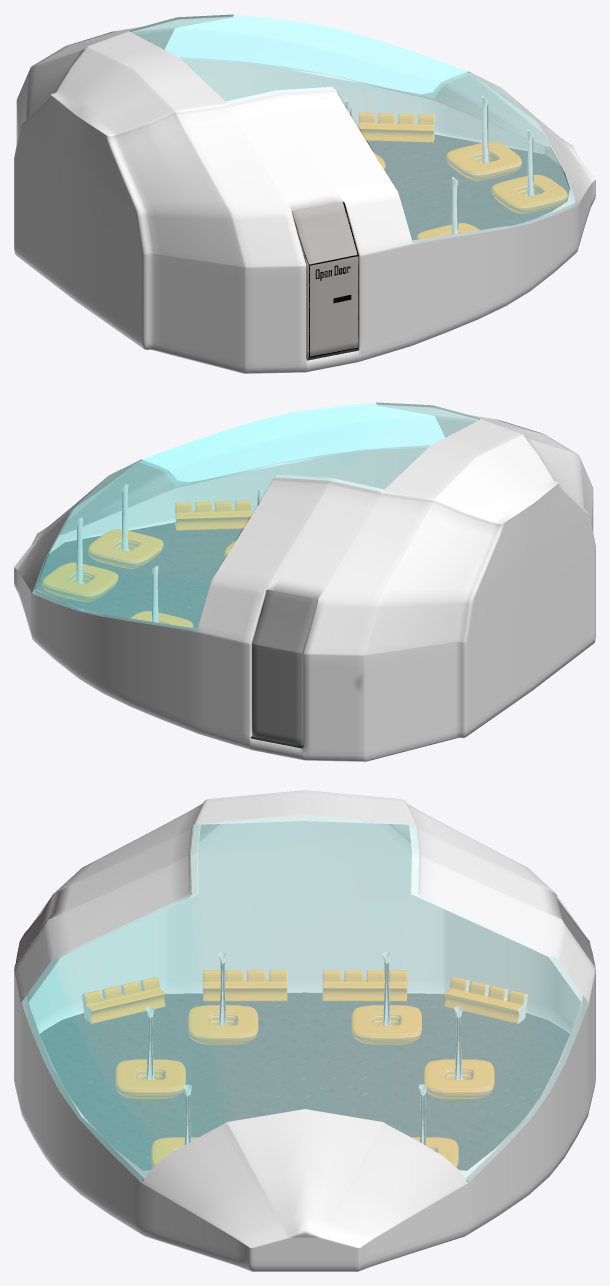
File: Leveler interor v2.FBX
3 renders of one model, top to bottom at view 1: azimuth 30°, elevation 25°; view 2: azimuth 150°, elevation 25°; view 3: azimuth 270°, elevation 25°, orthographic. The views are drawn at different scales.
Parts seen in each view (by area): view 1: Interiror, Cristal, Puerta, Asiento circular003, Asiento 003, Asiento circular001; view 2: Interiror, Cristal, puerta 2, Asiento circular003, Asiento 003, Asiento circular001; view 3: Interiror, Cristal, Asiento 004, Asiento circular002, Asiento circular, Asiento 005, Asiento circular001, Puerta.
Part boxes in pixels (x1,y1,x2,y2): Interiror: [14, 14, 595, 373]; Cristal: [128, 14, 577, 243]; Puerta: [291, 201, 359, 358]; Asiento circular003: [446, 141, 567, 213]; Asiento 003: [358, 113, 434, 142]; Asiento circular001: [373, 152, 479, 239]; Interiror: [14, 402, 595, 761]; Cristal: [32, 402, 481, 631]; puerta 2: [252, 590, 317, 745]; Asiento circular003: [42, 529, 163, 601]; Asiento 003: [175, 501, 251, 530]; Asiento circular001: [130, 540, 236, 627]; Interiror: [14, 790, 595, 1271]; Cristal: [21, 814, 588, 1181]; Asiento 004: [82, 977, 527, 1023]; Asiento circular002: [188, 1005, 421, 1044]; Asiento circular: [115, 1059, 494, 1098]; Asiento 005: [203, 970, 406, 1000]; Asiento circular001: [151, 1137, 458, 1167]; Puerta: [14, 893, 54, 967].
Bounding box in the file's own units: 720 × 308 × 660.
6 materials, 4 textured.
